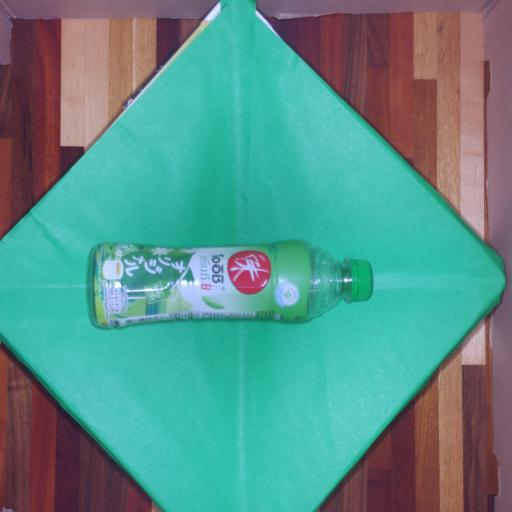bottle: (66, 216, 399, 349)
